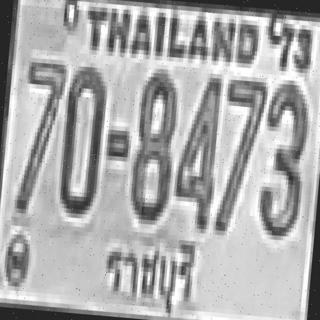N00: (56, 61, 107, 215)
N03: (255, 78, 309, 237)
N04: (171, 71, 222, 229)
N07: (213, 75, 266, 233), (13, 57, 66, 211)
N08: (128, 67, 178, 221)
P52: (94, 232, 200, 320)
